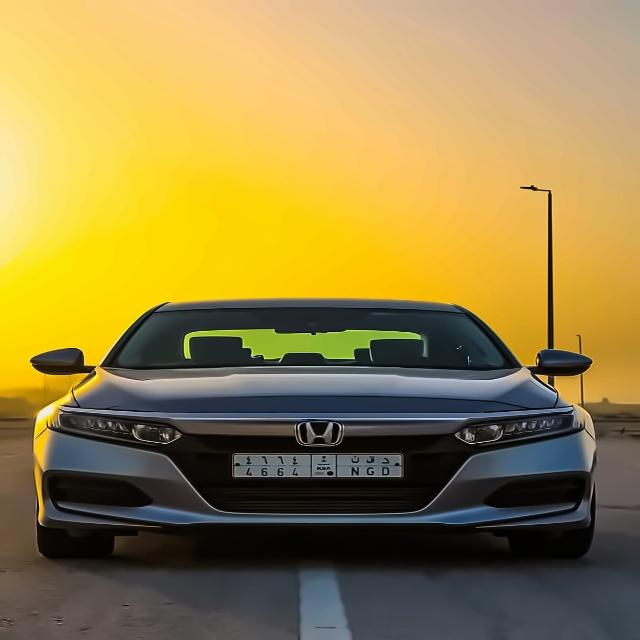Car hood: (69, 368, 561, 427)
Front bumper: (27, 430, 600, 552)
Headlight - -L-: (449, 406, 583, 454)
Headlight - -R-: (44, 406, 183, 452)
Side mirror - -L-: (525, 349, 597, 385)
Side mirror - -R-: (30, 348, 98, 382)
